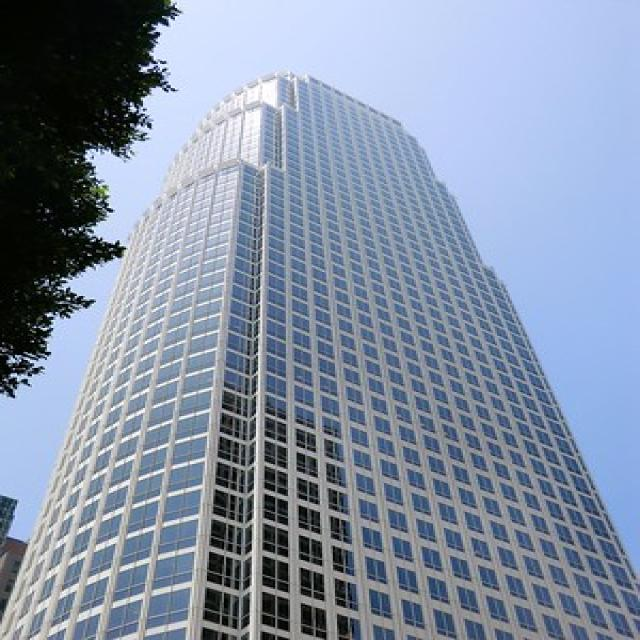building: (8, 67, 640, 638)
